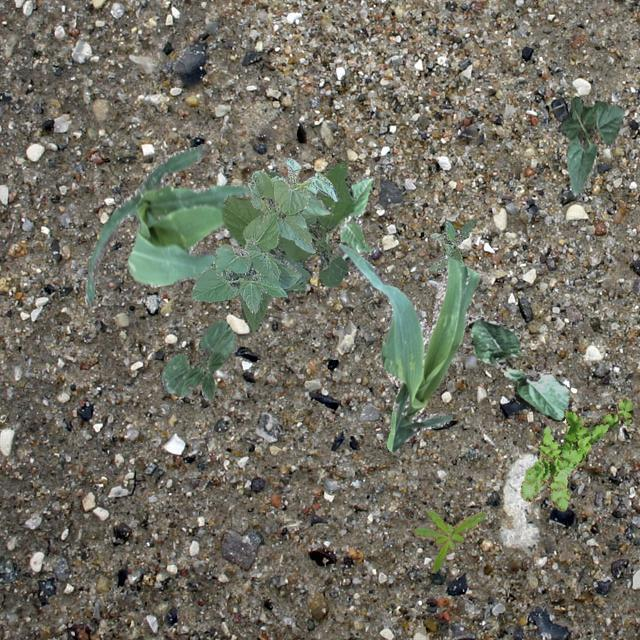crop: (336, 240, 482, 450), (84, 142, 248, 306), (190, 156, 338, 312), (466, 312, 568, 420), (558, 96, 624, 196), (160, 320, 233, 400), (304, 176, 374, 253), (266, 172, 330, 218)
weed: (222, 162, 354, 332), (520, 396, 632, 510), (412, 508, 486, 572), (428, 218, 474, 270)
